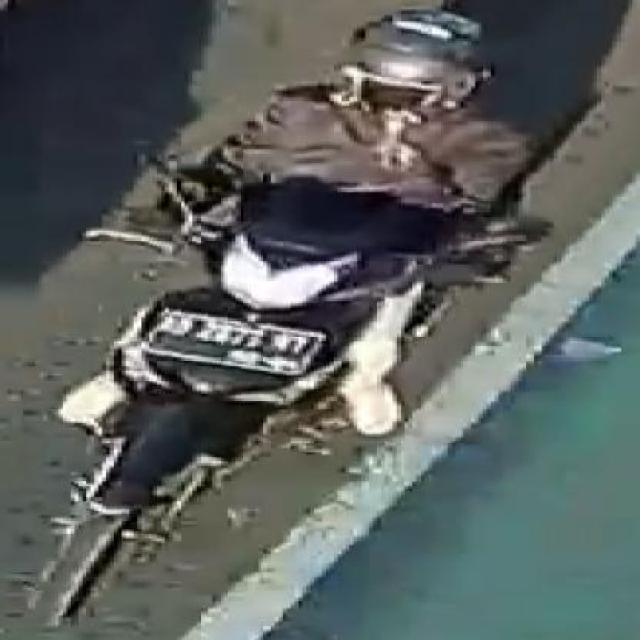helmet: (333, 3, 507, 149)
motorcycle: (32, 4, 560, 640)
